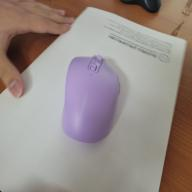mouse: (61, 52, 120, 145)
